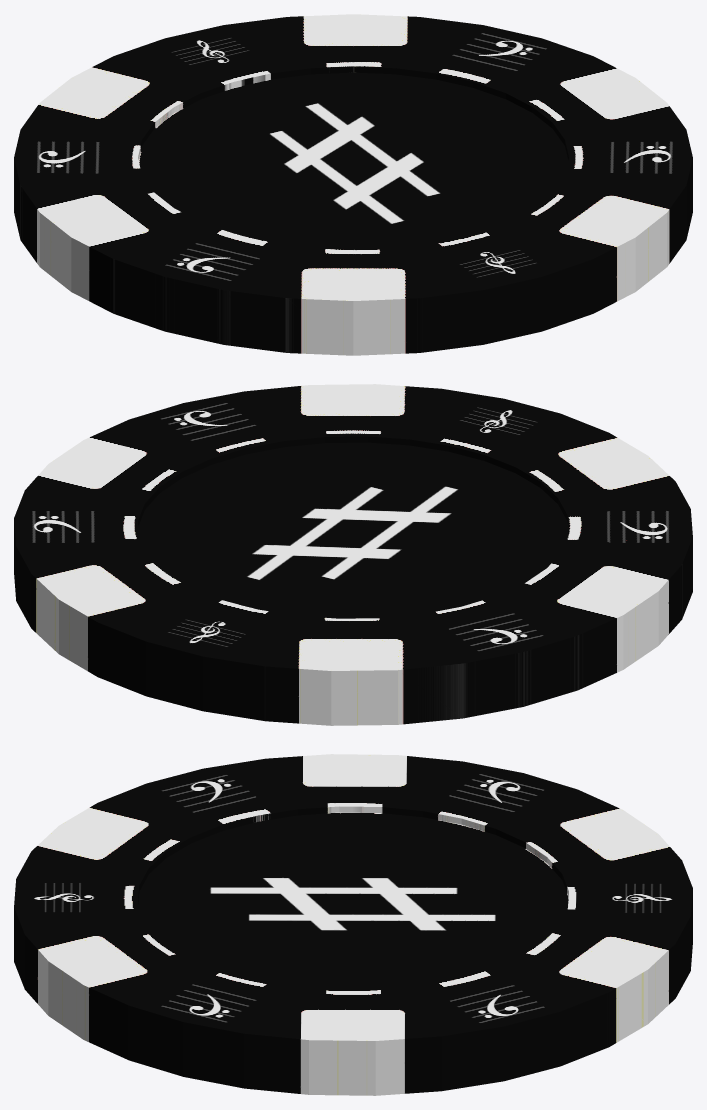
File: BlackChip.fbx
3 views of the same model, one above another, from view 1: azimuth 30°, elevation 25°; view 2: azimuth 150°, elevation 25°; view 3: azimuth 270°, elevation 25° (orthographic).
Parts seen in each view (by area): view 1: Cylinder; view 2: Cylinder; view 3: Cylinder.
Part boxes in pixels (x1,y1,x2,y2): Cylinder: [14, 14, 692, 355]; Cylinder: [14, 384, 692, 725]; Cylinder: [14, 754, 692, 1095].
Size of the model in its own units: 200 by 17.76 by 200.
